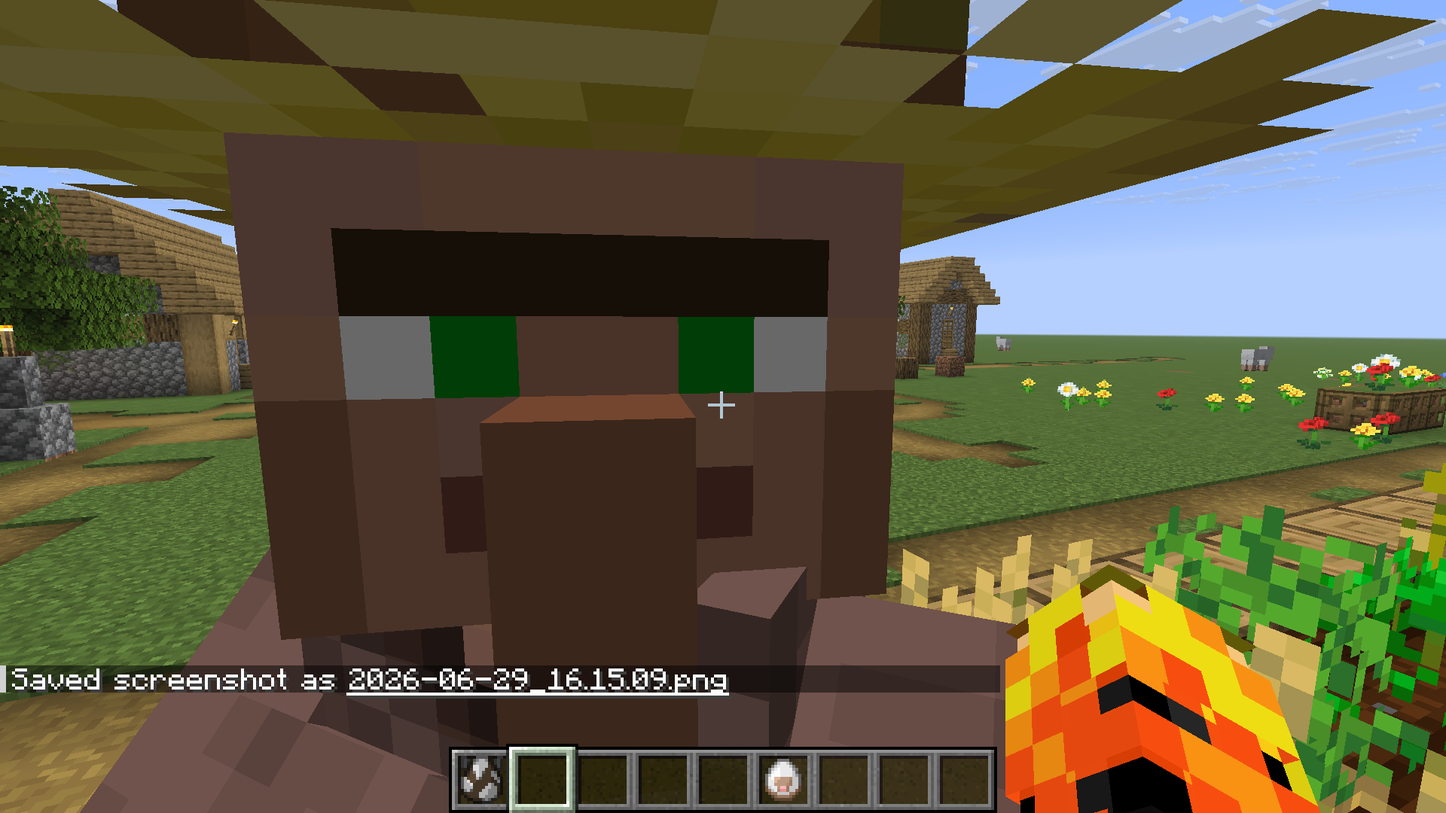Sheep: (1241, 338, 1275, 372)
villager: (223, 140, 923, 651)
